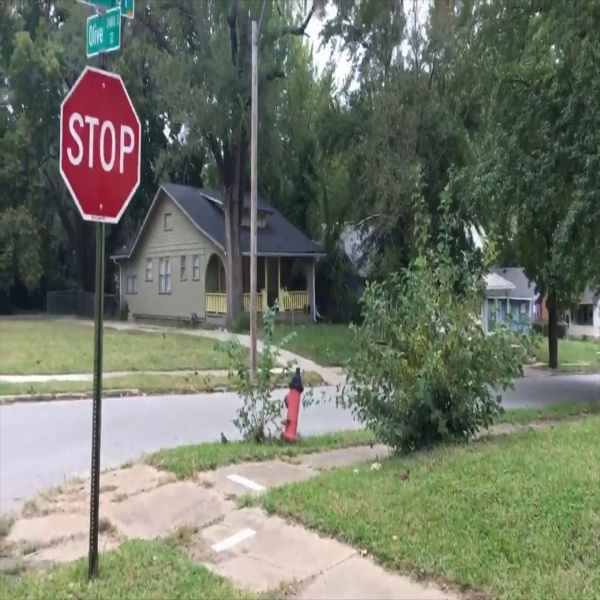stop: (62, 67, 144, 226)
